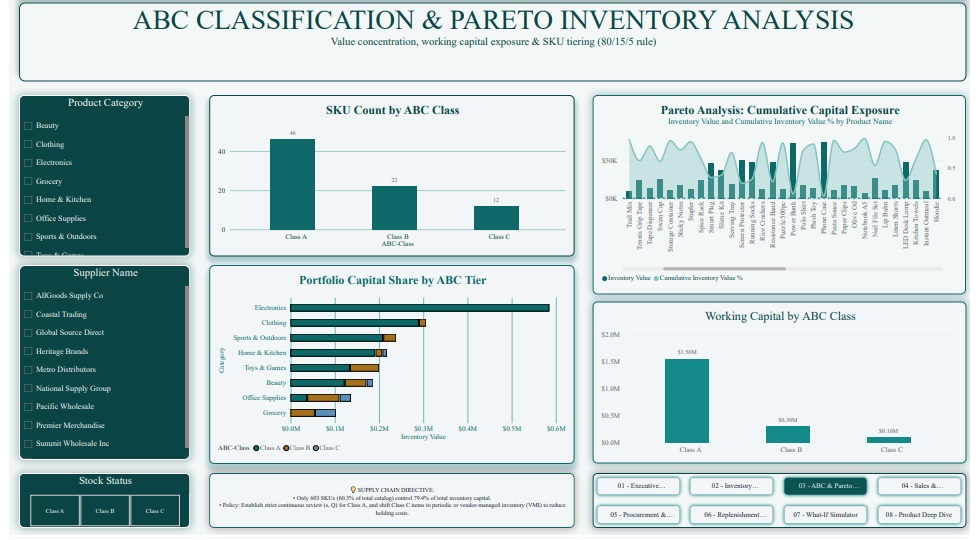

Layout of this report page (visuals, bound fields, positions):
{"tool":"powerbi","page":{"name":"03 - ABC & Pareto Analysis","canvas":[1920,1080],"ordinal":2},"visuals":[{"type":"textbox","title":"ABC CLASSIFICATION & PARETO INVENTORY ANALYSIS","box":[20,15,1892.5,157.5],"z":0},{"type":"slicer","title":"Product Category","fields":{"Values":["DimCategory.Category"]},"box":[20,200,341.7,323.3],"z":1000},{"type":"slicer","title":"Supplier Name","fields":{"Values":["DimSupplier.Supplier Name"]},"box":[20,540,342.2,390],"z":2000},{"type":"slicer","title":"Stock Status","fields":{"Values":["DimProduct.ABC-Class"]},"box":[20,955.6,342.2,110],"z":3000},{"type":"barChart","title":"Portfolio Capital Share by ABC Tier","fields":{"Category":["DimCategory.Category"],"Series":["DimProduct.ABC-Class"],"Y":["_Measure.Inventory Value"]},"box":[400,540,730,398],"z":4000},{"type":"clusteredColumnChart","title":"SKU Count by ABC Class","fields":{"Category":["DimProduct.ABC-Class"],"Y":["_Measure.ABC Product Count"]},"box":[400,200,730,322.9],"z":5000},{"type":"cardVisual","fields":{"Data":["DimProduct.Pareto Insight Text"]},"box":[400,956,730,110],"z":6000},{"type":"lineClusteredColumnComboChart","title":"Pareto Analysis: Cumulative Capital Exposure","fields":{"Category":["DimProduct.Product Name"],"Y":["_Measure.Inventory Value"],"Y2":["_Measure.Cumulative Inventory Value %"]},"box":[1165.6,200,746.7,398.9],"z":7000},{"type":"clusteredColumnChart","title":"Working Capital by ABC Class","fields":{"Category":["DimProduct.ABC-Class"],"Y":["_Measure.Inventory Value"]},"box":[1165.6,613.3,747.8,323.3],"z":8000},{"type":"pageNavigator","box":[1166,956,747,110],"z":9000}]}

Visuals, with their boxes in screenshot pixels (x1, y1, x2, y2), scaled from the page's 1920x1080 canvas onto the 978x540 screenshot:
"ABC CLASSIFICATION & PARETO INVENTORY ANALYSIS" textbox: crop(10, 8, 974, 86)
"Product Category" slicer: crop(10, 100, 184, 262)
"Supplier Name" slicer: crop(10, 270, 184, 465)
"Stock Status" slicer: crop(10, 478, 184, 533)
"Portfolio Capital Share by ABC Tier" barChart: crop(204, 270, 576, 469)
"SKU Count by ABC Class" clusteredColumnChart: crop(204, 100, 576, 261)
cardVisual - DimProduct.Pareto Insight Text: crop(204, 478, 576, 533)
"Pareto Analysis: Cumulative Capital Exposure" lineClusteredColumnComboChart: crop(594, 100, 974, 299)
"Working Capital by ABC Class" clusteredColumnChart: crop(594, 307, 975, 468)
pageNavigator: crop(594, 478, 974, 533)
